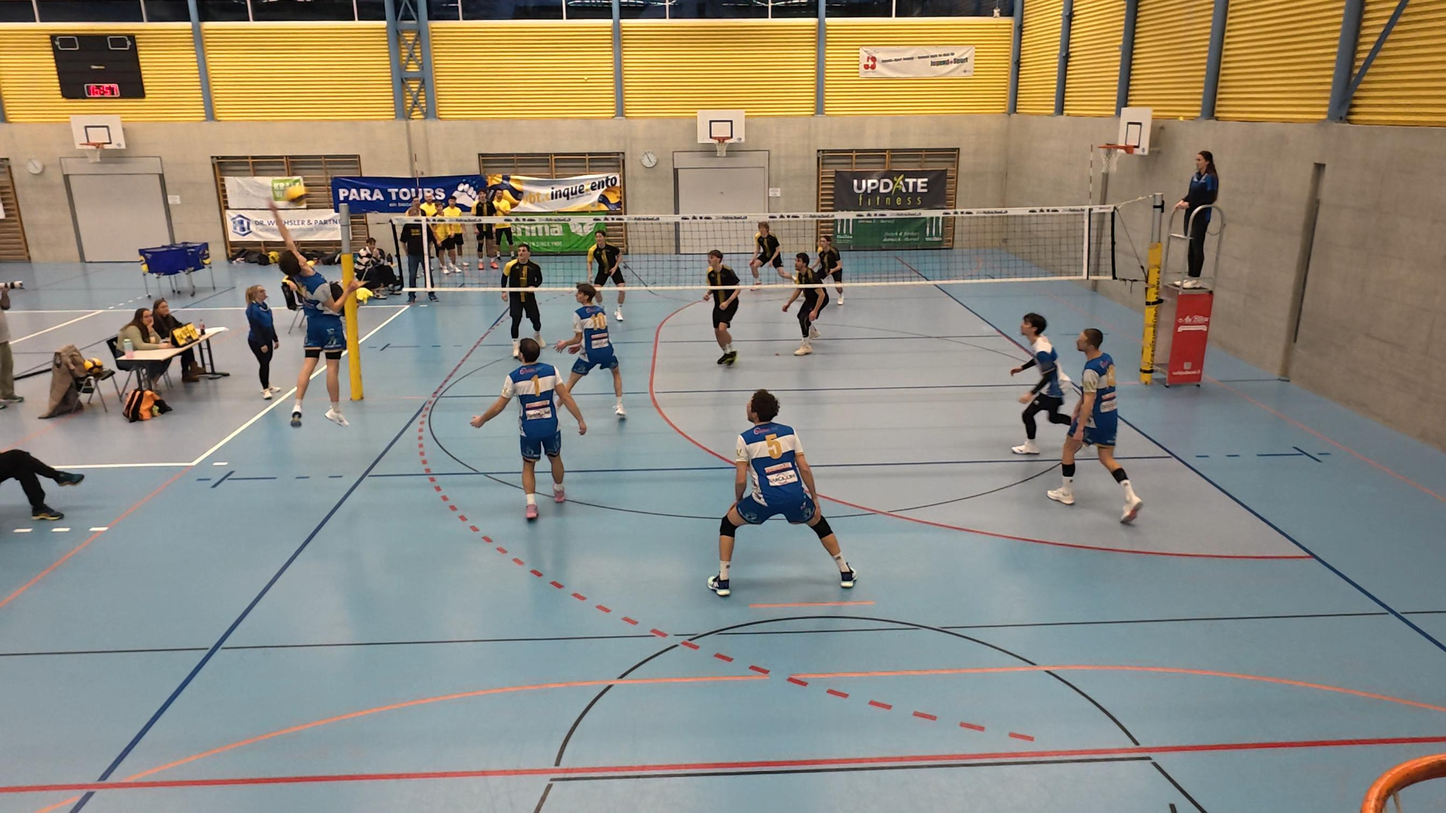Attack: (259, 195, 368, 429)
Player: (710, 390, 857, 596), (472, 335, 584, 520), (1046, 326, 1143, 523), (1007, 312, 1075, 461), (560, 282, 626, 423), (499, 244, 546, 354), (706, 247, 744, 369), (784, 248, 825, 355), (589, 227, 629, 318), (815, 218, 844, 310), (750, 218, 786, 288)
ball: (281, 186, 305, 199)
